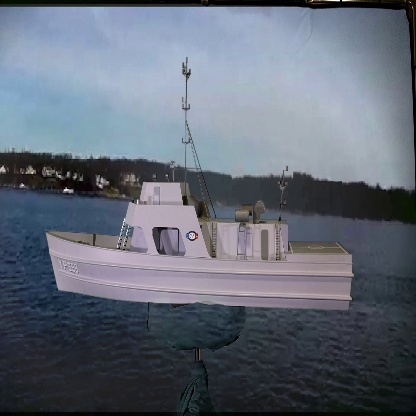YP689: (43, 53, 357, 314)
